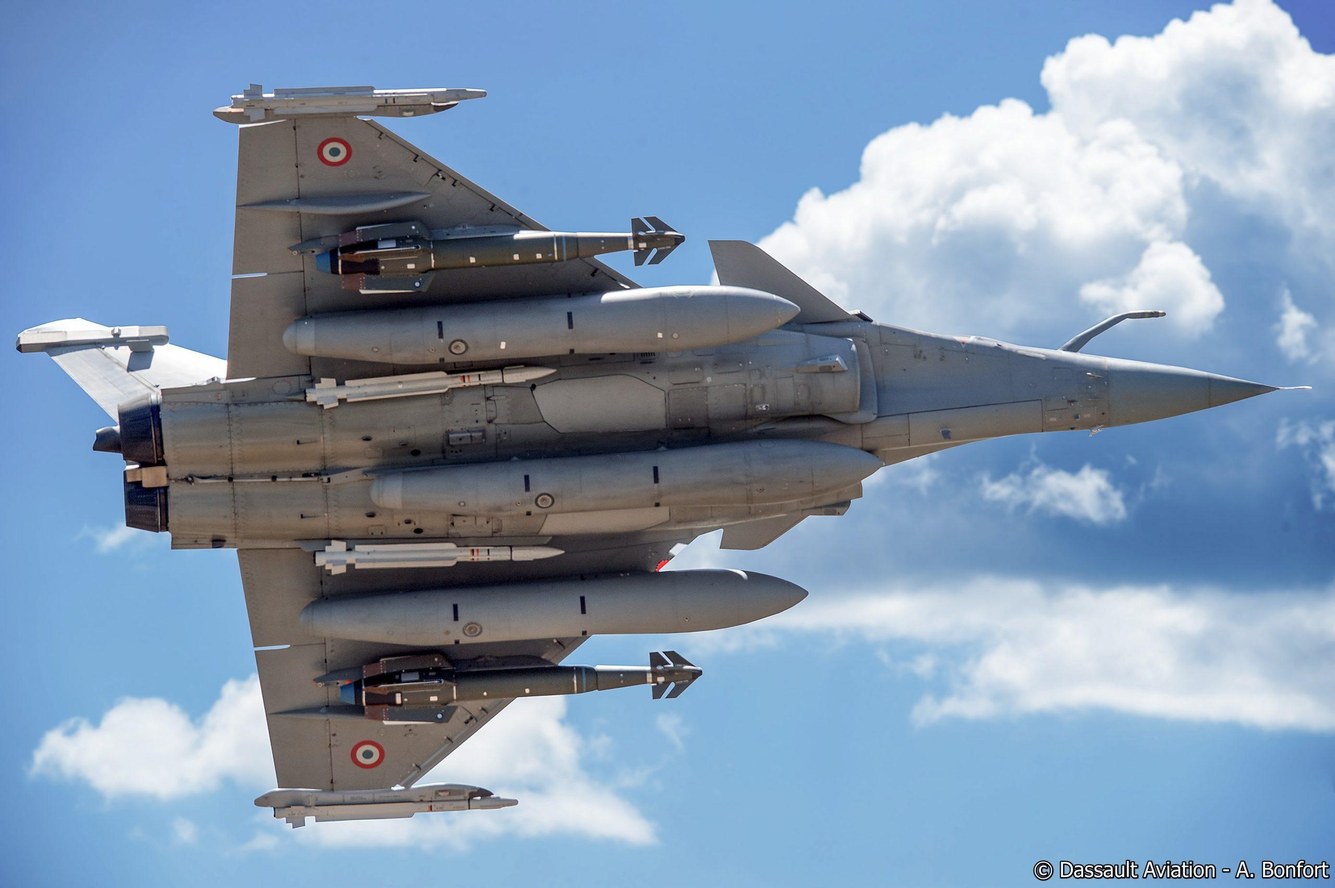aircraft: (209, 87, 1294, 622)
